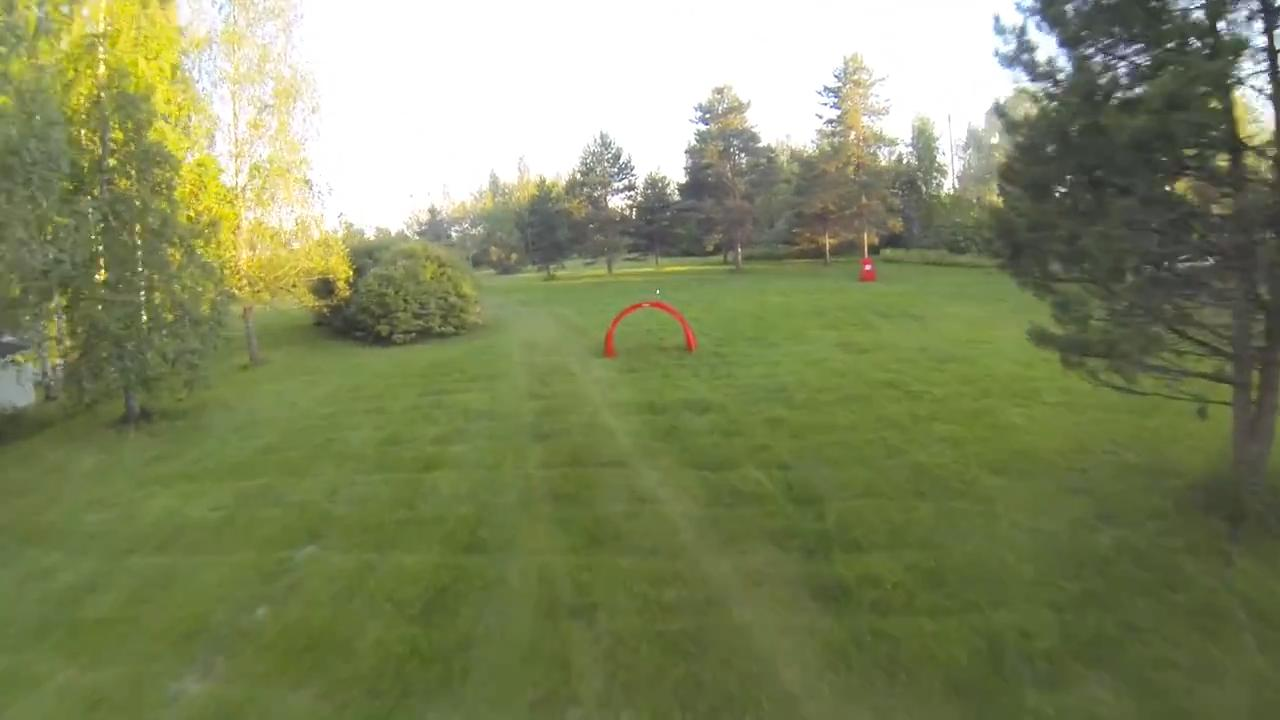gate: (599, 300, 700, 358)
